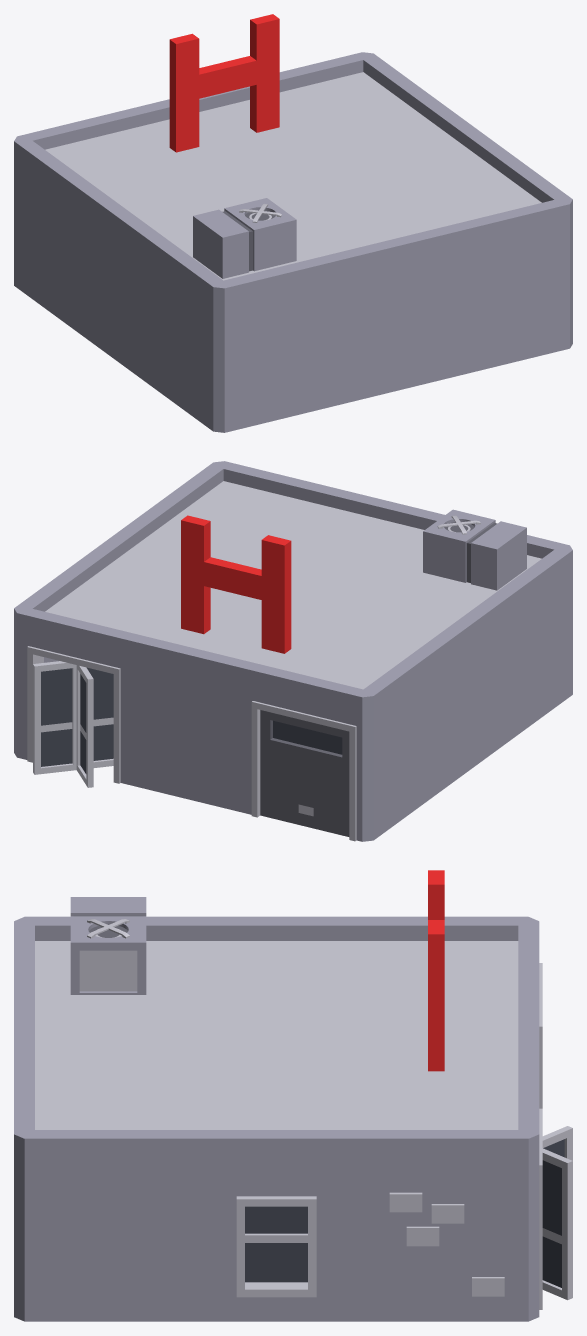
File: hospital_1.fbx
The picture shows the model from 3 angles, top to bottom: view 1: azimuth 30°, elevation 25°; view 2: azimuth 150°, elevation 25°; view 3: azimuth 270°, elevation 25°; orthographic projection. The views are drawn at different scales.
Visible parts, largest first — view 1: wall_straight_6, wall_straight_5, wall_straight_4, roof_corner_14, roof_corner_16, roof_corner_26, roof_side_20, roof_side_25, wall_straight_8, wall_straight_10, wall_straight_9, roof_corner_27 (+7 smaller); view 2: wall_doorRevolving_12, wall_straight_13, wall_garageDoorClosed_11, roof_corner_14, roof_corner_16, roof_corner_26, roof_side_24, wall_straight_9, roof_side_25, roof_side_18, wall_straight_8, wall_straight_10 (+7 smaller); view 3: wall_straight_3, wall_window_21, wall_straight_2, roof_corner_16, roof_side_20, roof_corner_26, roof_side_24, roof_corner_14, roof_side_25, roof_square_23, roof_side_18, roof_corner_27 (+6 smaller).
Part boxes in pixels (box(x1,y1,x2,y2)): wall_straight_6: box(213, 284, 339, 432); wall_straight_5: box(339, 256, 454, 404); wall_straight_4: box(455, 228, 569, 376); roof_corner_14: box(14, 108, 206, 213); roof_corner_16: box(248, 52, 439, 146); roof_corner_26: box(378, 150, 572, 256); roof_side_20: box(311, 101, 505, 195); roof_side_25: box(290, 194, 457, 284); wall_straight_8: box(147, 263, 213, 431); wall_straight_10: box(80, 214, 146, 382); wall_straight_9: box(14, 165, 80, 333); roof_corner_27: box(147, 234, 342, 312); wall_doorRevolving_12: box(17, 637, 131, 787); wall_straight_13: box(132, 665, 247, 813); wall_garageDoorClosed_11: box(247, 693, 362, 841); roof_corner_14: box(245, 627, 439, 721); roof_corner_16: box(14, 558, 180, 664); roof_corner_26: box(147, 461, 341, 552); roof_side_24: box(312, 578, 506, 671); wall_straight_9: box(362, 672, 439, 841); roof_side_25: box(280, 489, 444, 583); roof_side_18: box(129, 599, 324, 693); wall_straight_8: box(506, 574, 572, 742); wall_straight_10: box(440, 623, 506, 791); wall_straight_3: box(14, 1165, 192, 1321); wall_window_21: box(192, 1169, 360, 1321); wall_straight_2: box(360, 1165, 539, 1321); roof_corner_16: box(350, 1059, 539, 1169); roof_side_20: box(182, 1074, 369, 1169); roof_corner_26: box(14, 1060, 202, 1169); roof_side_24: box(182, 916, 371, 1002); roof_corner_14: box(350, 916, 539, 1011); roof_side_25: box(14, 988, 200, 1082); roof_square_23: box(182, 1003, 367, 1082); roof_side_18: box(350, 988, 539, 1082); roof_corner_27: box(14, 916, 202, 1011).
Bounding box in the file's own units: 31.65 × 20 × 33.26.
